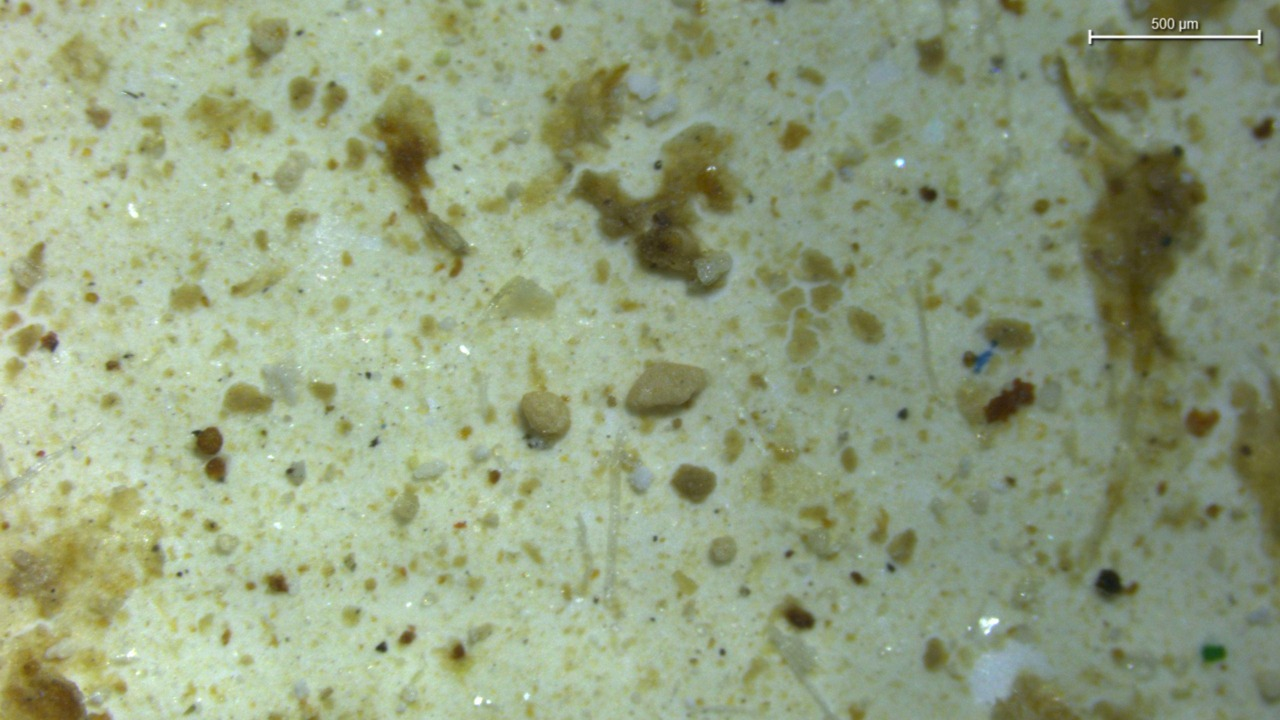microplastic_fragment: (625, 362, 707, 414), (519, 391, 570, 439), (644, 95, 678, 123), (627, 74, 660, 100), (629, 466, 652, 492)
